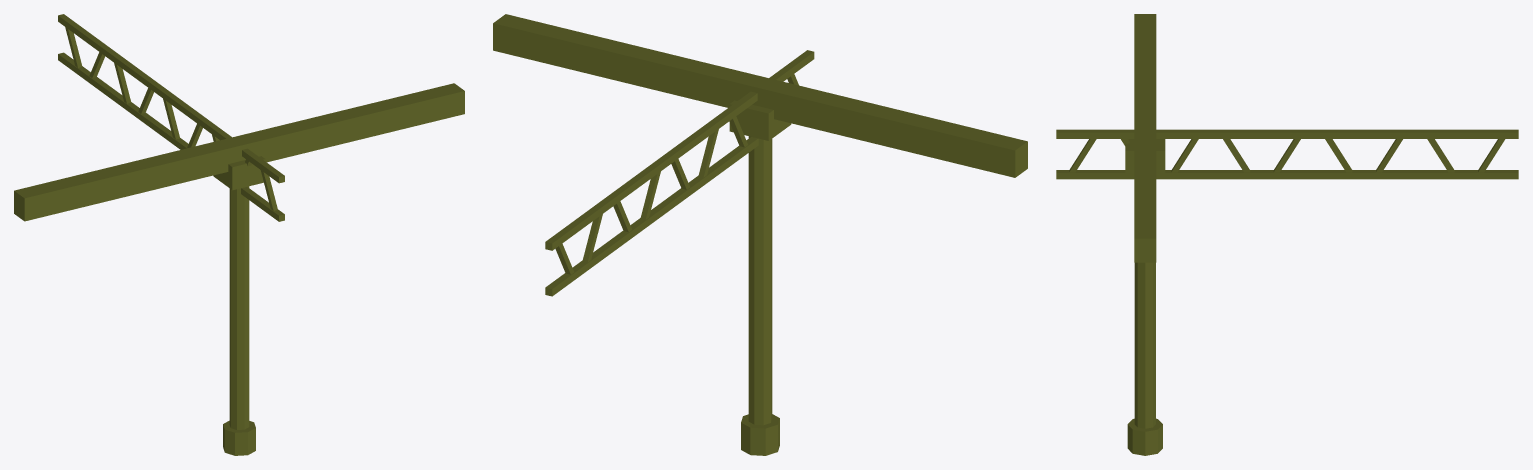
The model's file is SM_KitMarquesina_v3_LOD0.fbx.
The picture shows the model from 3 angles, left to right: view 1: azimuth 30°, elevation 25°; view 2: azimuth 150°, elevation 25°; view 3: azimuth 270°, elevation 25°; orthographic projection. The views are drawn at different scales.
Visible parts, largest first — view 1: SM_bloques.kit_marquesina_v3_LOD0; view 2: SM_bloques.kit_marquesina_v3_LOD0; view 3: SM_bloques.kit_marquesina_v3_LOD0.
Part boxes in pixels (x1,y1,x2,y2): SM_bloques.kit_marquesina_v3_LOD0: [14, 14, 464, 455]; SM_bloques.kit_marquesina_v3_LOD0: [493, 14, 1027, 455]; SM_bloques.kit_marquesina_v3_LOD0: [1056, 14, 1518, 455].
Bounding box in the file's own units: 5.98 × 4 × 5.2.
